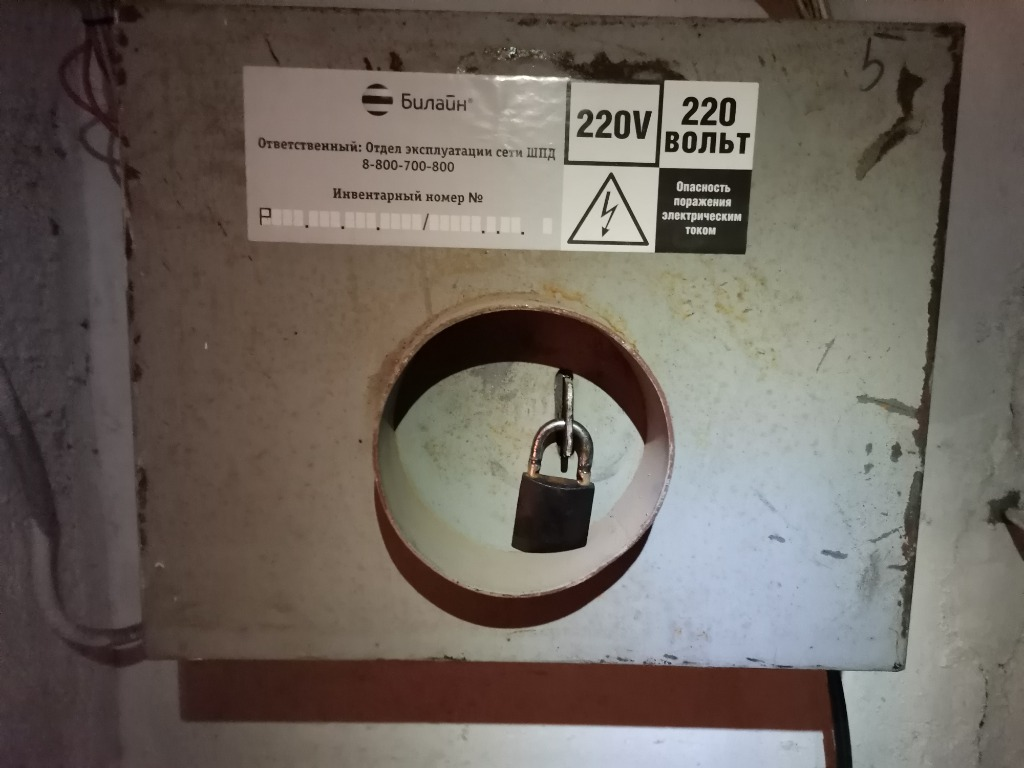shta-3: (110, 2, 970, 675)
